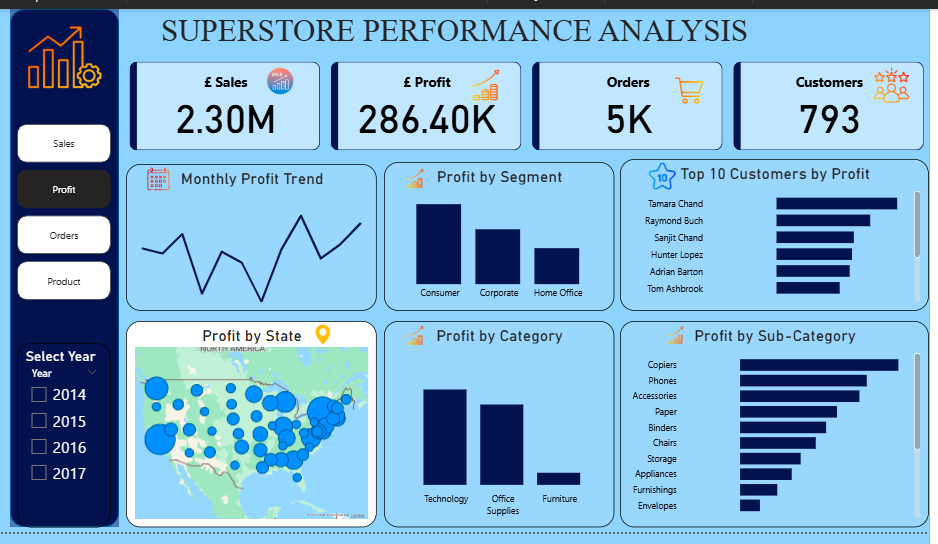

This screenshot's page, from the dashboard's own definition file:
{"tool":"powerbi","page":{"name":"Profit","canvas":[1280,720],"ordinal":1},"visuals":[{"type":"lineChart","title":"Monthly Profit Trend","fields":{"Category":["Sheet1.Order Date.Variation.Date Hierarchy.Month"],"Y":["Sheet1.Profit"]},"box":[174.8,213.3,345.5,202.3],"z":0},{"type":"clusteredColumnChart","title":"Profit by Category","fields":{"Category":["Sheet1.Category"],"Y":["Sheet1.Profit"]},"box":[529.9,429.4,316.6,283.5],"z":1000},{"type":"clusteredColumnChart","title":"Profit by Segment","fields":{"Category":["Sheet1.Segment"],"Y":["Sheet1.Profit"]},"box":[529.9,210.6,316.6,205.1],"z":2000},{"type":"azureMap","title":"Profit by State","fields":{"Values":["Sheet1.Sales","Sheet1.State"],"Category":["Sheet1.State"],"Size":["Sheet1.Profit"]},"box":[174.8,429.4,345.5,283.5],"z":3000},{"type":"clusteredBarChart","title":"Profit by Sub-Category","fields":{"Category":["Sheet1.Sub-Category"],"Y":["Sheet1.Profit"]},"box":[854.7,429.4,425.3,283.5],"z":4000},{"type":"clusteredBarChart","title":"Top 10 Customers by Profit","fields":{"Category":["Sheet1.Customer Name"],"Y":["Sheet1.Profit"]},"box":[854.7,206.4,425.3,209.2],"z":5000},{"type":"textbox","box":[174.8,0,904.3,67.4],"z":6000},{"type":"shape","box":[15.1,0,150,713],"z":7000},{"type":"slicer","title":"Select Year","fields":{"Values":["Sheet1.Order Date.Variation.Date Hierarchy.Year"]},"box":[25.2,460.3,129.3,253.7],"z":8000},{"type":"pageNavigator","box":[24.8,158.3,129.4,243.6],"z":9000},{"type":"cardVisual","fields":{"Data":["Sheet1.£ Sales","Sheet1.£ Profit","Sheet1.Orders","Sheet1.Customers"]},"box":[174.8,67.4,1105.2,132.1],"z":9001},{"type":"image","box":[622.1,75.7,93.6,57.8],"z":9002},{"type":"image","box":[911.1,75.7,77.1,73],"z":9003},{"type":"image","box":[1186.4,75.7,84,57.8],"z":9004},{"type":"image","box":[360.6,75.7,53.7,46.8],"z":9005},{"type":"image","box":[15.1,11,150,111.5],"z":9006},{"type":"image","box":[875.4,206.4,74.3,46.8],"z":9007},{"type":"image","box":[414.3,429.4,63.3,37.2],"z":9008},{"type":"image","box":[196.8,213.3,44,41.3],"z":9009},{"type":"image","box":[549.2,213.3,46.8,39.9],"z":9011},{"type":"image","box":[549.2,429.4,46.8,39.9],"z":9012},{"type":"image","box":[912.5,429.4,37.2,39.9],"z":9013}]}

Visuals, with their boxes on the page's 1280x720 design canvas (x1, y1, x2, y2). These are canvas units, not pixel positions in the 938x544 screenshot, which may show the page scaled, cropped or inside an application window:
"Monthly Profit Trend" lineChart: (x1=175, y1=213, x2=520, y2=416)
"Profit by Category" clusteredColumnChart: (x1=530, y1=429, x2=846, y2=713)
"Profit by Segment" clusteredColumnChart: (x1=530, y1=211, x2=846, y2=416)
"Profit by State" azureMap: (x1=175, y1=429, x2=520, y2=713)
"Profit by Sub-Category" clusteredBarChart: (x1=855, y1=429, x2=1280, y2=713)
"Top 10 Customers by Profit" clusteredBarChart: (x1=855, y1=206, x2=1280, y2=416)
textbox: (x1=175, y1=0, x2=1079, y2=67)
shape: (x1=15, y1=0, x2=165, y2=713)
"Select Year" slicer: (x1=25, y1=460, x2=154, y2=714)
pageNavigator: (x1=25, y1=158, x2=154, y2=402)
cardVisual - Sheet1.£ Sales x Sheet1.£ Profit: (x1=175, y1=67, x2=1280, y2=200)
image: (x1=622, y1=76, x2=716, y2=134)
image: (x1=911, y1=76, x2=988, y2=149)
image: (x1=1186, y1=76, x2=1270, y2=134)
image: (x1=361, y1=76, x2=414, y2=122)
image: (x1=15, y1=11, x2=165, y2=122)
image: (x1=875, y1=206, x2=950, y2=253)
image: (x1=414, y1=429, x2=478, y2=467)
image: (x1=197, y1=213, x2=241, y2=255)
image: (x1=549, y1=213, x2=596, y2=253)
image: (x1=549, y1=429, x2=596, y2=469)
image: (x1=912, y1=429, x2=950, y2=469)
